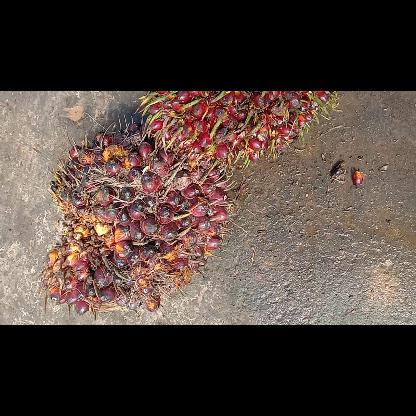Kurang masak: (138, 91, 336, 169)
TBS masak: (40, 116, 234, 316)
